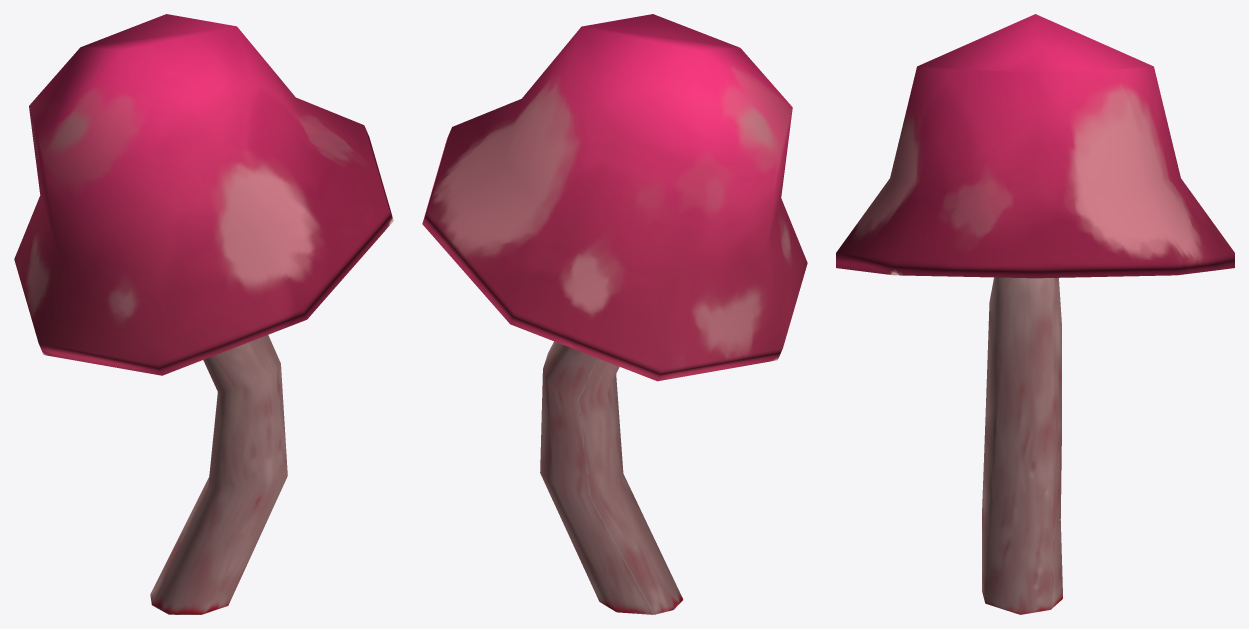
The model's file is PROP_BendShroom_1.fbx.
3 renders of one model, left to right at view 1: azimuth 30°, elevation 25°; view 2: azimuth 150°, elevation 25°; view 3: azimuth 270°, elevation 25°, orthographic. The views are drawn at different scales.
Visible parts, largest first — view 1: PROP_BendShroom_1; view 2: PROP_BendShroom_1; view 3: PROP_BendShroom_1.
Part boxes in pixels (<box>): PROP_BendShroom_1: <box>14,14,393,614</box>; PROP_BendShroom_1: <box>422,14,807,614</box>; PROP_BendShroom_1: <box>836,14,1234,614</box>.
Bounding box in the file's own units: 176 × 284 × 185.
Materials: 1 (1 with a texture image).
